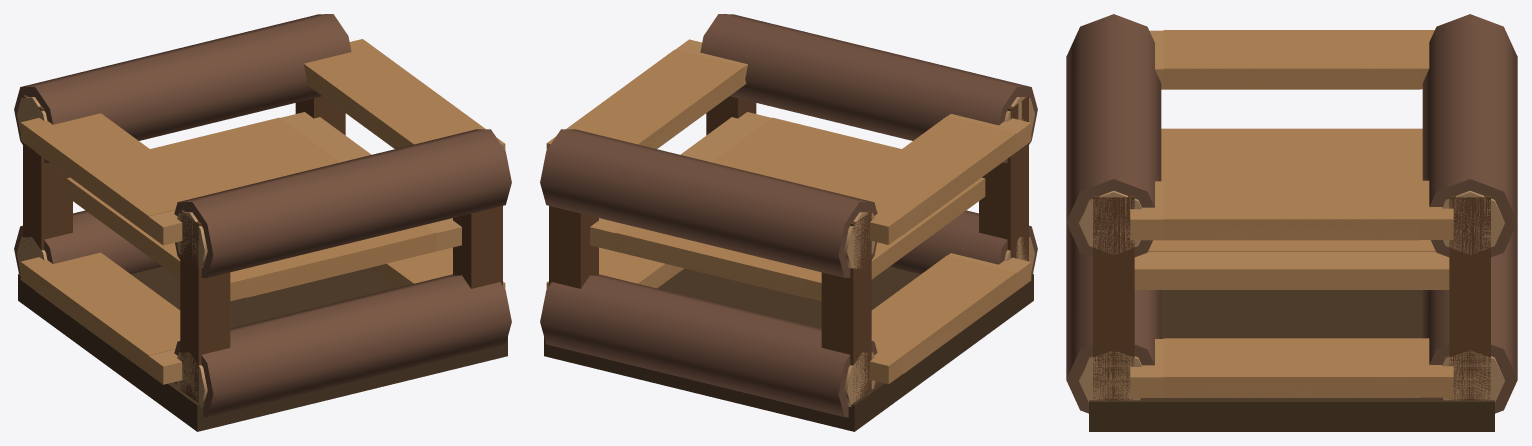
The model's file is goods_rack.glb.
3 renders of one model, left to right at view 1: azimuth 30°, elevation 25°; view 2: azimuth 150°, elevation 25°; view 3: azimuth 270°, elevation 25°, orthographic. The views are drawn at different scales.
Parts seen in each view (by area): view 1: Beam10, Beam6, Beam9, Floor, Beam11, Beam7, Beam12, Shelf17, Shelf13, Post2, Shelf14, Beam5 (+6 smaller); view 2: Beam9, Beam5, Beam10, Floor, Beam11, Beam7, Beam12, Shelf17, Shelf13, Post1, Shelf16, Post2 (+6 smaller); view 3: Floor, Beam10, Beam9, Beam12, Beam8, Beam11, Shelf16, Shelf15, Shelf14, Post3, Post4, Beam5 (+3 smaller).
Boxes of the visible parts, x1,y1,x2,y2 form: Beam10: (174, 129, 511, 277); Beam6: (174, 274, 511, 417); Beam9: (14, 14, 351, 162); Floor: (18, 266, 507, 431); Beam11: (20, 113, 210, 245); Beam7: (20, 252, 182, 384); Beam12: (304, 39, 505, 149); Shelf17: (175, 218, 461, 301); Shelf13: (66, 112, 350, 210); Post2: (180, 210, 230, 402); Shelf14: (87, 139, 371, 240); Beam5: (14, 210, 161, 273); Beam9: (540, 129, 877, 277); Beam5: (540, 274, 877, 417); Beam10: (700, 14, 1037, 162); Floor: (544, 266, 1033, 431); Beam11: (841, 114, 1031, 244); Beam7: (869, 253, 1031, 384); Beam12: (546, 39, 747, 149); Shelf17: (701, 112, 985, 218); Shelf13: (590, 218, 877, 301); Post1: (821, 210, 871, 402); Shelf16: (680, 132, 953, 232); Post2: (979, 95, 1028, 261); Floor: (1089, 290, 1494, 431); Beam10: (1066, 14, 1161, 257); Beam9: (1422, 14, 1517, 257); Beam12: (1130, 180, 1453, 240); Beam8: (1130, 338, 1453, 397); Beam11: (1149, 30, 1434, 89); Shelf16: (1180, 128, 1271, 289); Shelf15: (1246, 128, 1337, 289); Shelf14: (1312, 128, 1403, 289); Post3: (1449, 196, 1490, 400); Post4: (1093, 196, 1134, 400); Beam5: (1422, 223, 1517, 413).
Size of the model in its own units: 1.08 by 0.665 by 1.09.
